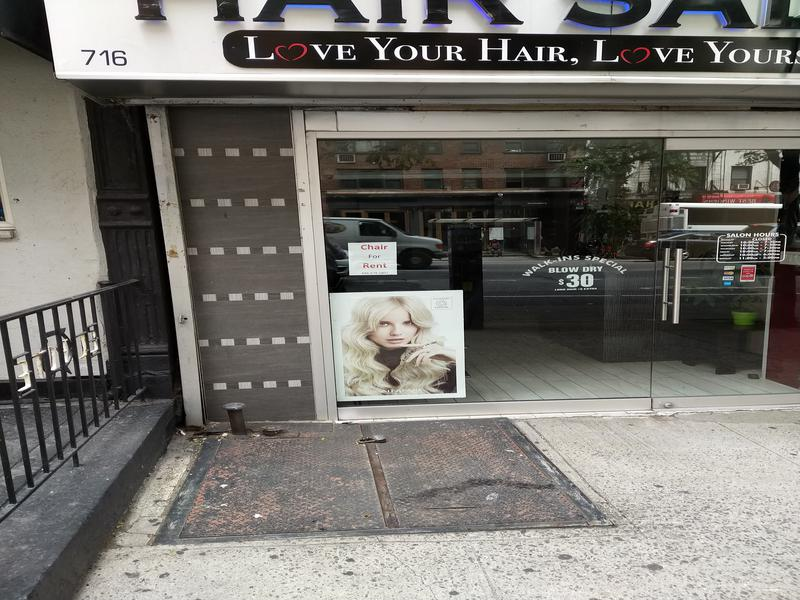door: (650, 129, 800, 413)
